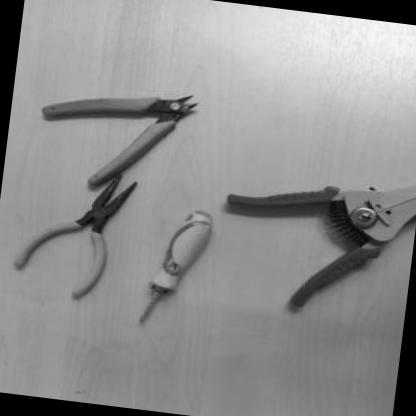Screwdriver: (130, 198, 216, 334)
